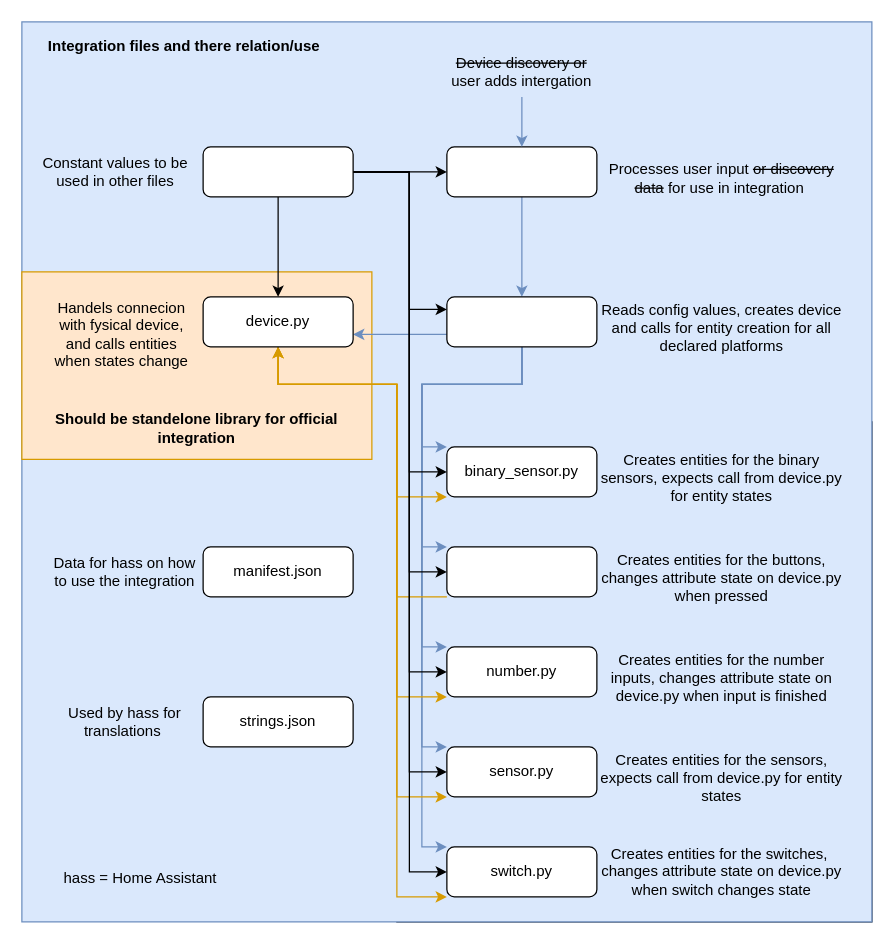
This 894x944 diagram has some shape labels left out. The shapes that lost their labels are listed below. From the top down, each one's centre as x and y in pixels, then its label:
At point 277,171: "const.py".
At point 521,171: "config_flow.py".
At point 521,321: "__init__.py".
At point 521,571: "button.py".
